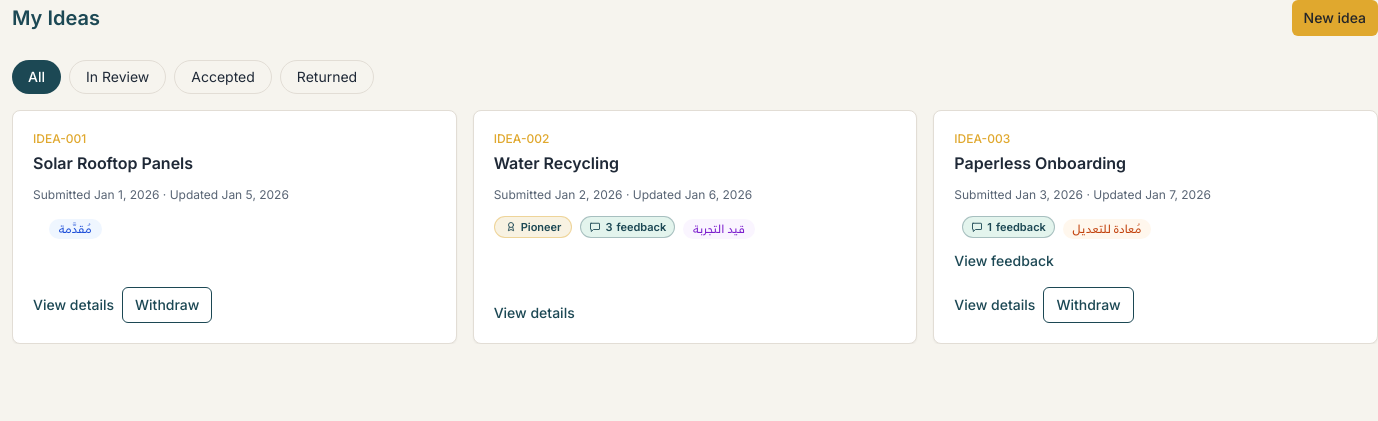
Test case: MyIdeasComponent › shows an error alert when withdraw fails and does not reload
What coordinates should you click on to do the following:
click the button "Withdraw" below "مُقدَّمة"
I would click on:
 (167, 305)
Its box is [122,287,212,323].
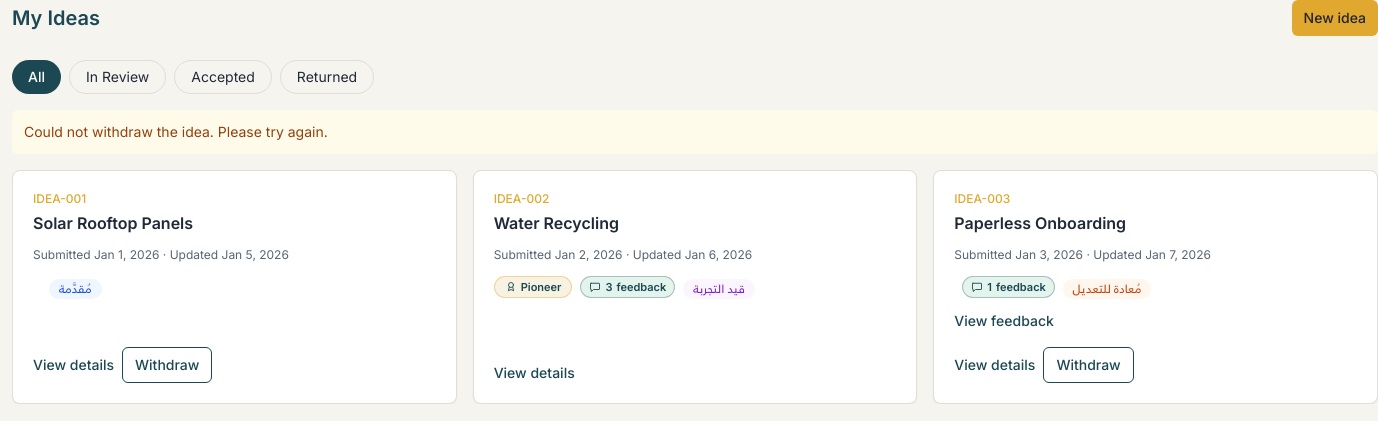
expect the message "Could not withdraw the idea. Please try again." is shown: met, box [12,110,1377,154]
